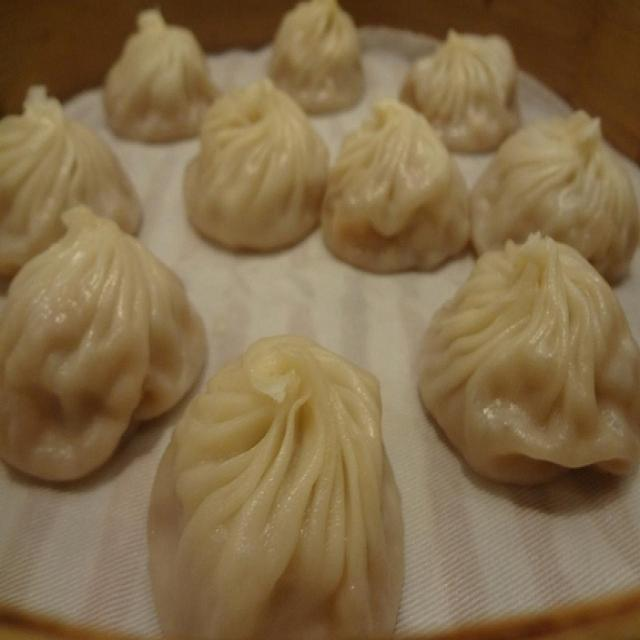带馅早点: (10, 21, 619, 602)
